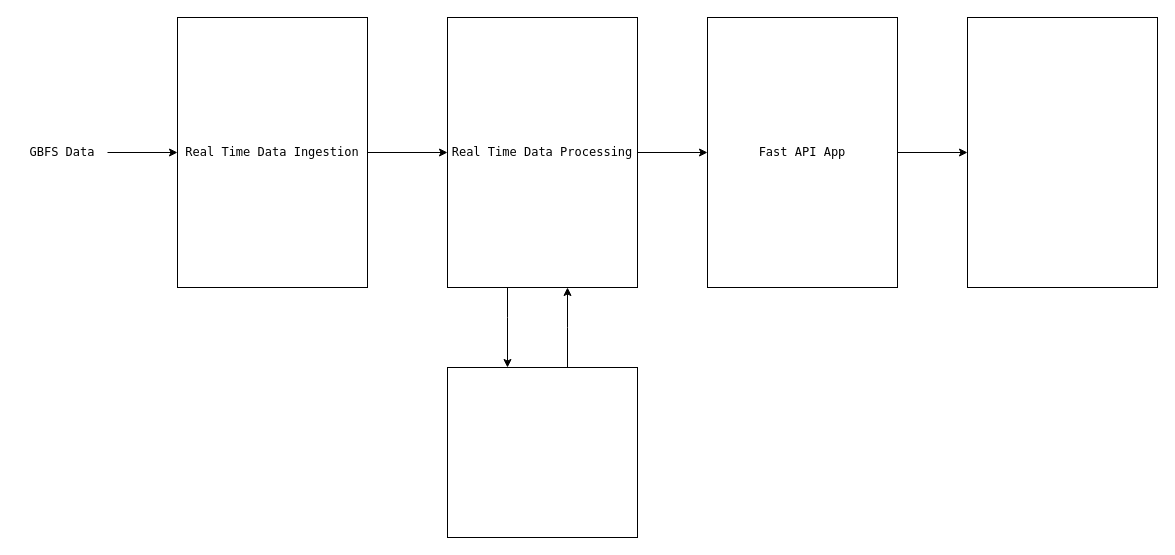
The diagram is 1175 pixels wide and 555 high, and some of its shapes have lost their labels. Each missing label, with the centre of its shape:
End Application: (1062,152)
Machine Learning Engine: (542,452)
